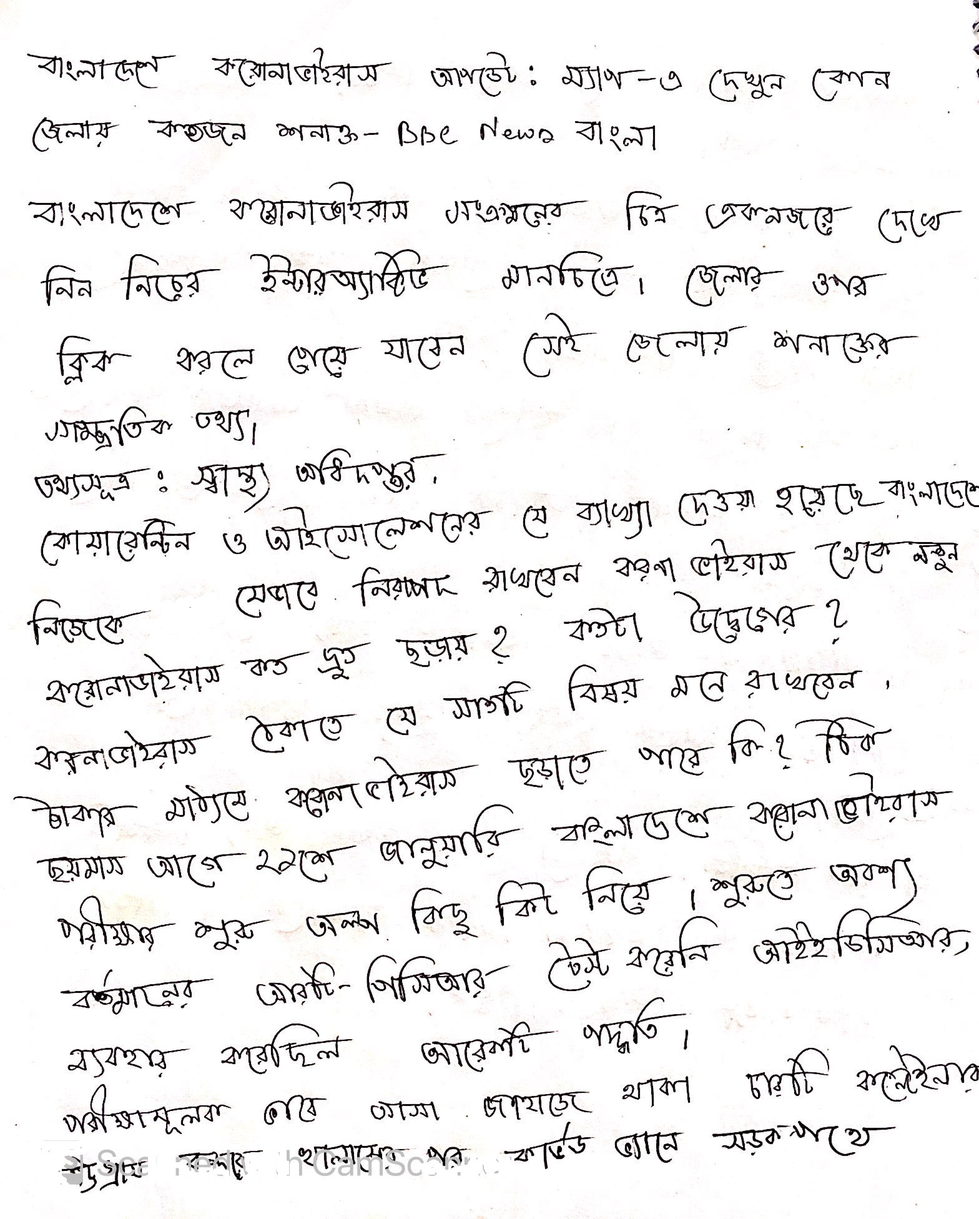line: (34, 770, 955, 889), (12, 716, 895, 839), (24, 536, 963, 649), (59, 906, 972, 1019), (43, 589, 849, 711), (34, 668, 893, 780), (39, 478, 979, 572), (62, 1045, 979, 1139), (55, 856, 920, 955), (55, 312, 920, 390), (58, 1118, 900, 1197), (25, 180, 964, 247), (65, 996, 692, 1080), (39, 249, 887, 309), (27, 46, 893, 104), (32, 446, 449, 515), (31, 114, 660, 155), (42, 405, 262, 454)
